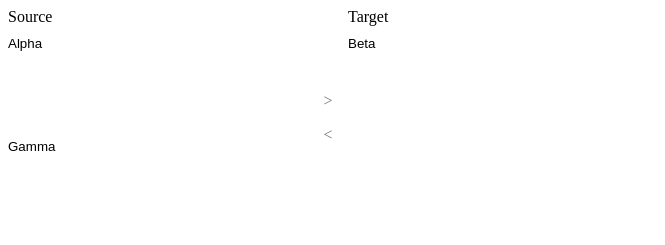
Test: LTransfer › moves selected target items back to source and clears moved selection
Step 1. Click the button "Beta" → (362, 43), box [348, 26, 648, 60]
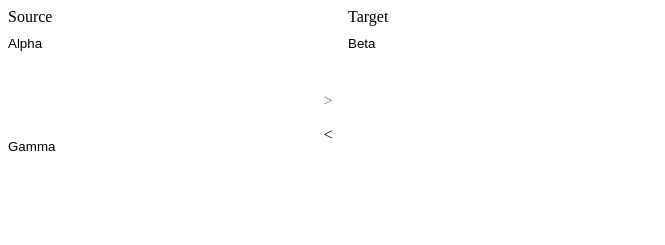
Step 2. Click the button "<" → (328, 135), box [308, 118, 348, 152]
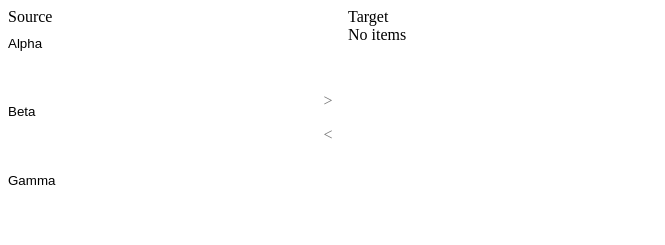
Now the element showing "Source Alpha Beta Gamma" is shown, box [8, 8, 308, 228]
